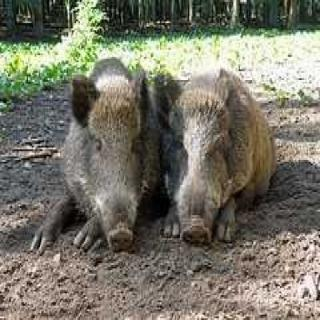Pig: (37, 41, 152, 283), (153, 55, 288, 259)
